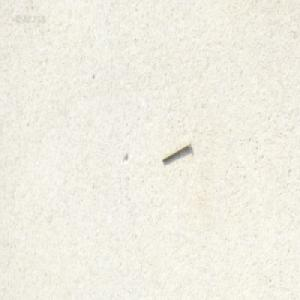Bolt: (160, 139, 189, 162)
